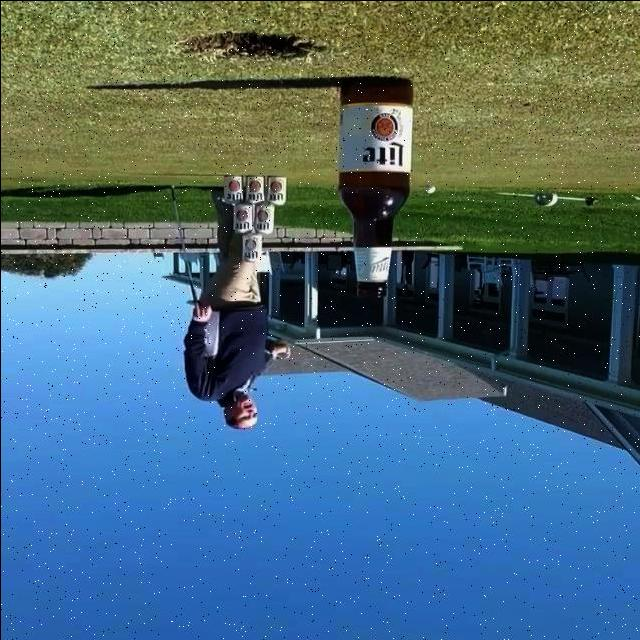golf ball: (424, 184, 435, 193)
golf club-handle: (169, 185, 200, 305)
golf club-head: (185, 298, 200, 305)
